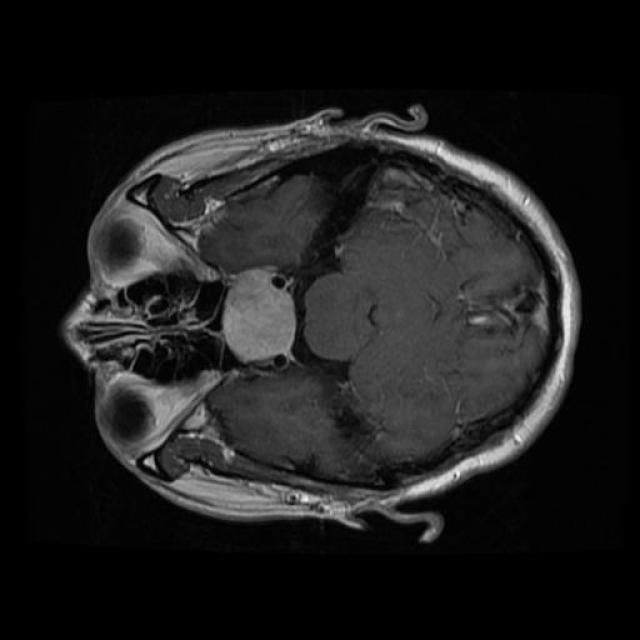Pituitary: (222, 271, 296, 361)
